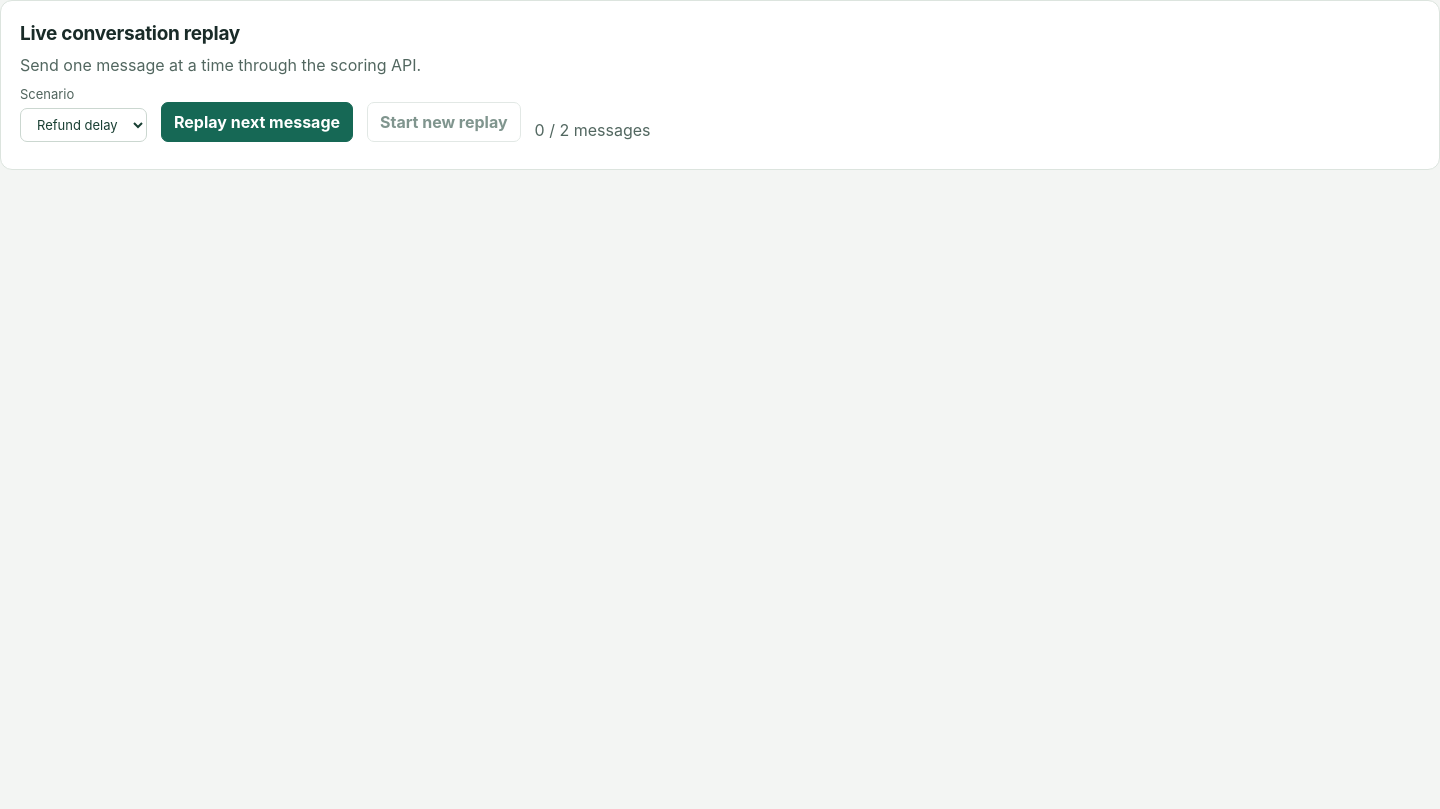
Test: Replay › submits one message per click and renders the returned score and alert
Click the button "Replay next message": (257,122) [161, 102, 353, 142]
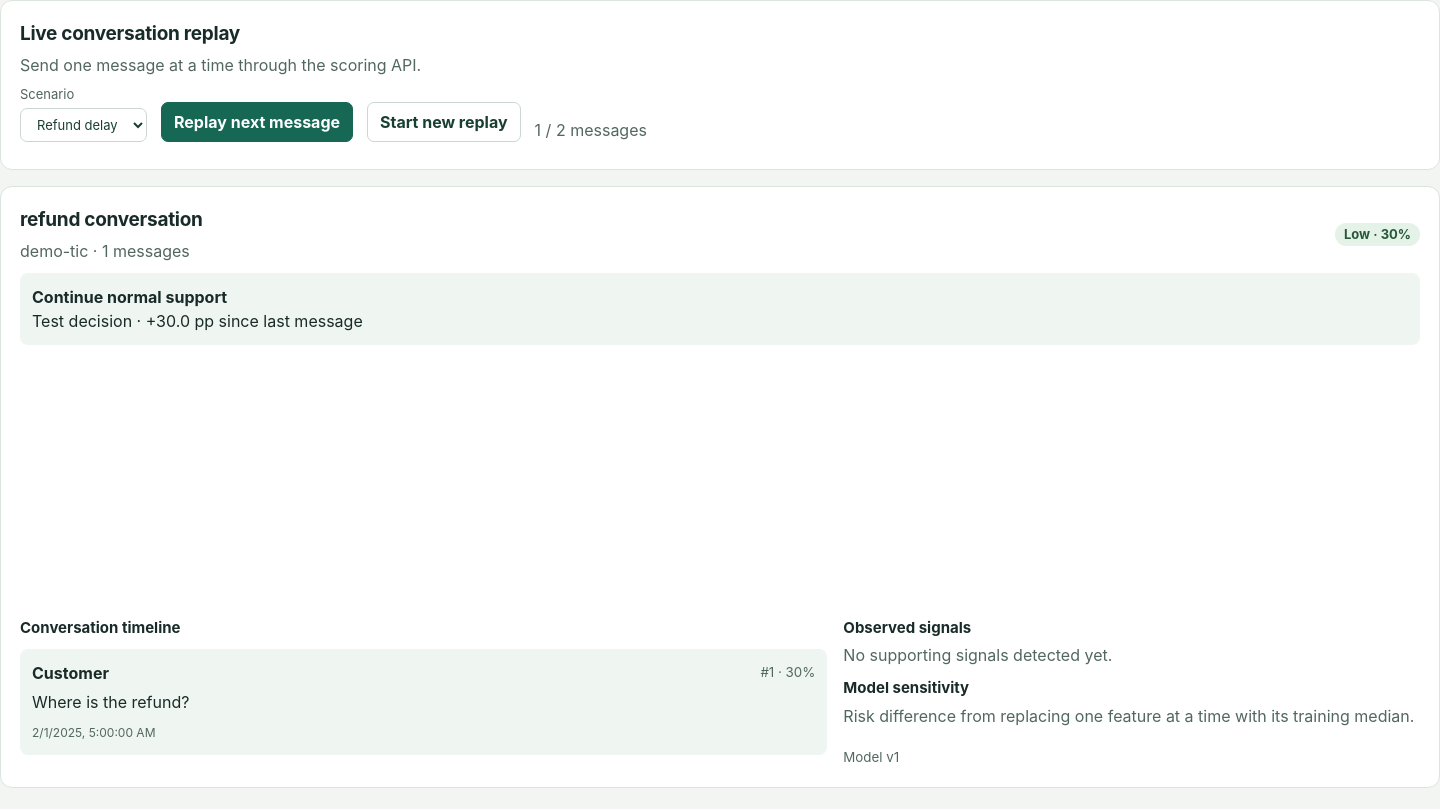
Expected: the text "I will check." is not shown
Expected: the text "Where is the refund?" is shown, [32, 692, 189, 712]
Click the button "Replay next message": (257,122) [161, 102, 353, 142]
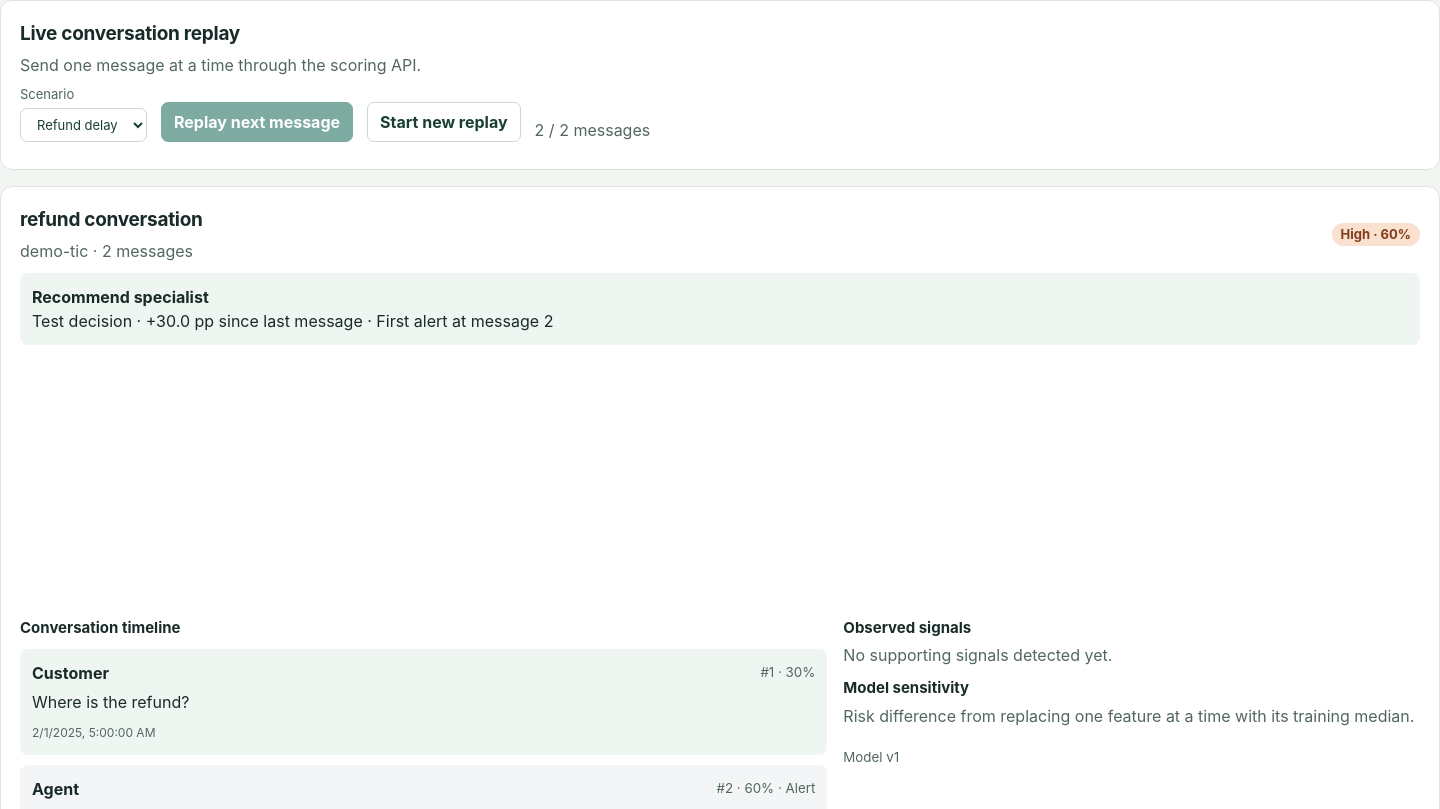
Expected: the text "Recommend specialist" is shown, [32, 286, 209, 306]
Expected: the text "First alert at message 2" is shown, [363, 310, 553, 330]
Expected: the button "Replay next message" is disabled, [161, 102, 353, 142]
Click the button "Start new replay": (444,122) [367, 102, 521, 142]
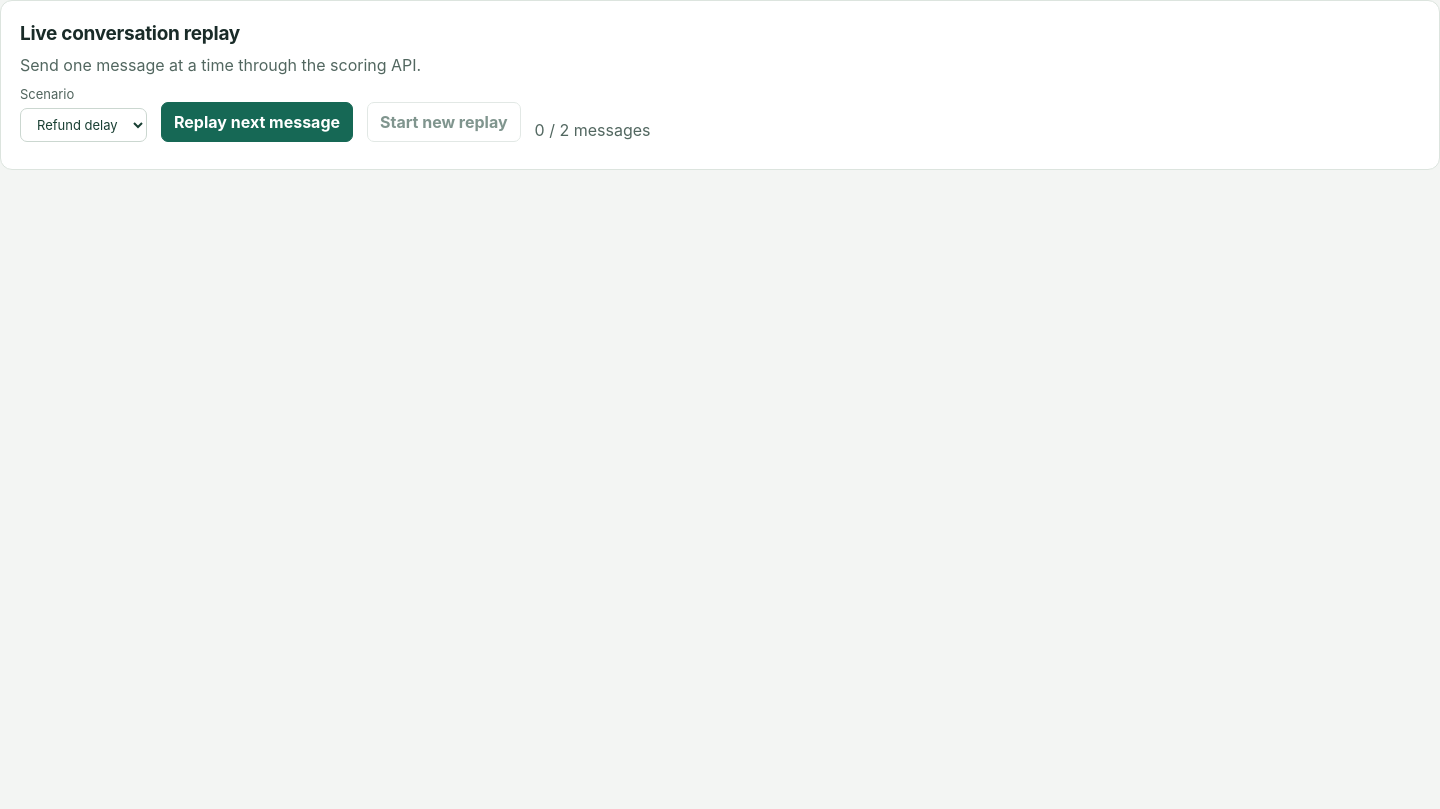
Expected: the text "I will check." is not shown
Expected: the button "Replay next message" is enabled, [161, 102, 353, 142]
